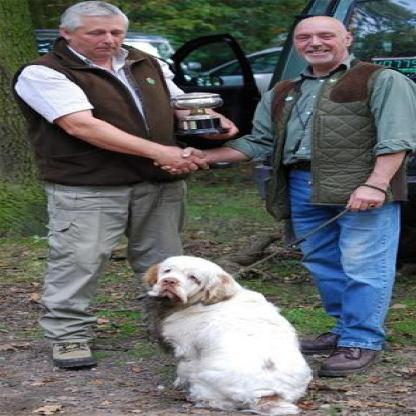clumber: (135, 254, 311, 413)
